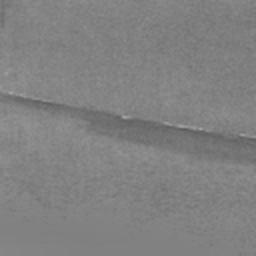Finishing roll printing: (0, 70, 256, 146)
